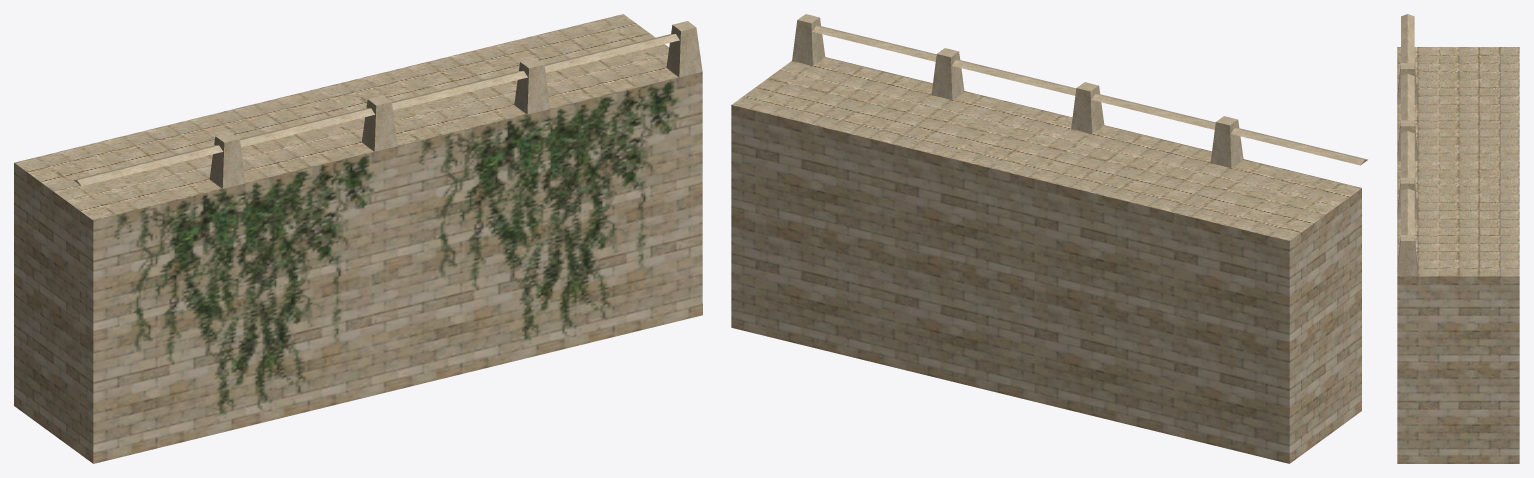
Rendered from thm_nboo_thed_imprv_seawall_straight_s01_2seg_l3.fbx.
The picture shows the model from 3 angles, left to right: view 1: azimuth 30°, elevation 25°; view 2: azimuth 150°, elevation 25°; view 3: azimuth 270°, elevation 25°; orthographic projection. The views are drawn at different scales.
Parts seen in each view (by area): view 1: mesh_node; view 2: mesh_node; view 3: mesh_node.
Part boxes in pixels (x1=…): mesh_node: x1=14, y1=14, x2=702, y2=463; mesh_node: x1=731, y1=14, x2=1367, y2=463; mesh_node: x1=1397, y1=14, x2=1519, y2=463.
Bounding box in the file's own units: 16.24 × 7.2 × 3.6.
